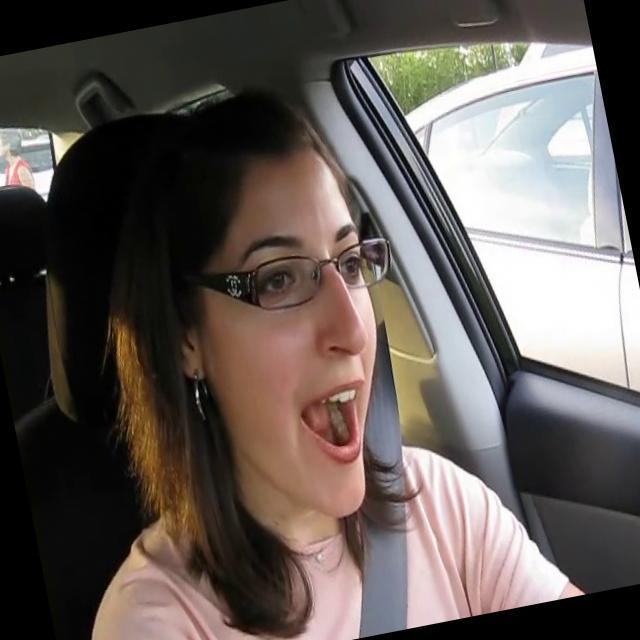open-mouth: (300, 379, 363, 460)
